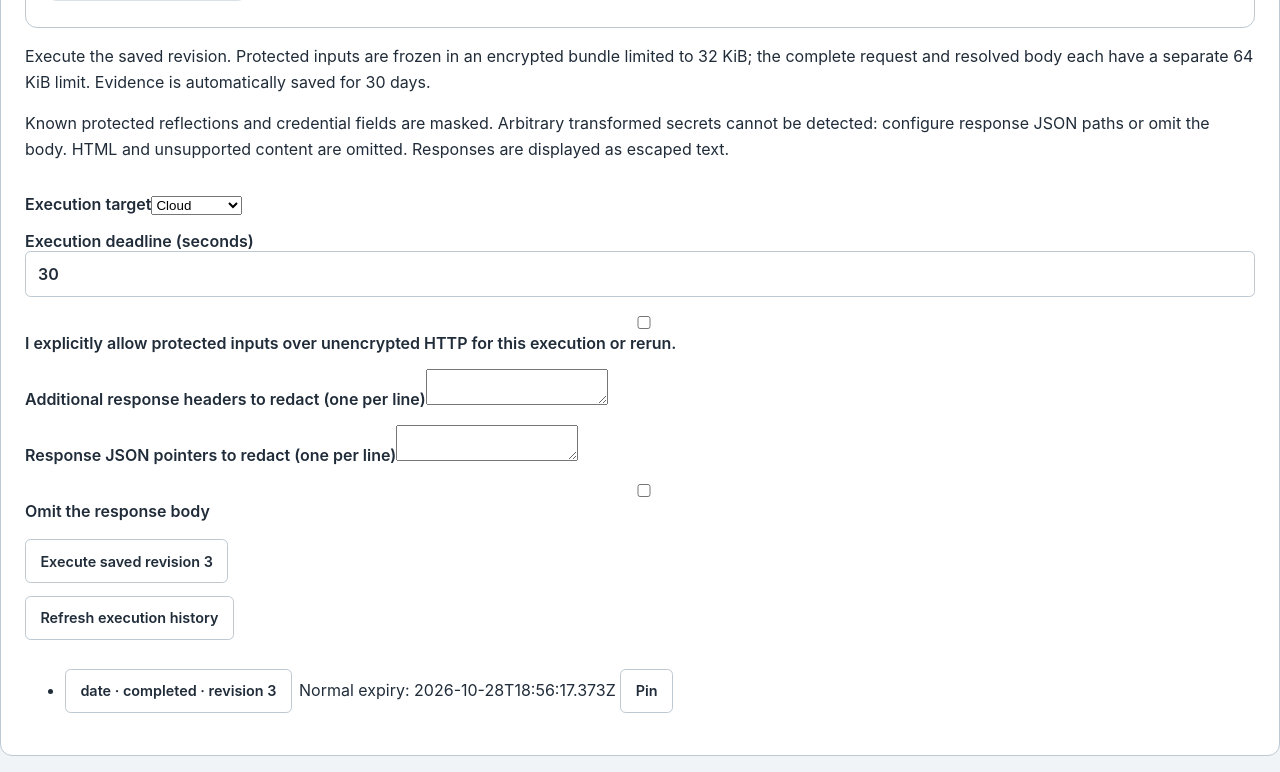
it: directs run-owned steps to a whole-workflow rerun
(page scrolled)
Click the button "date · completed · revision 3". click: coordinates (178, 691)
box: [65, 669, 292, 713]
(page scrolled)
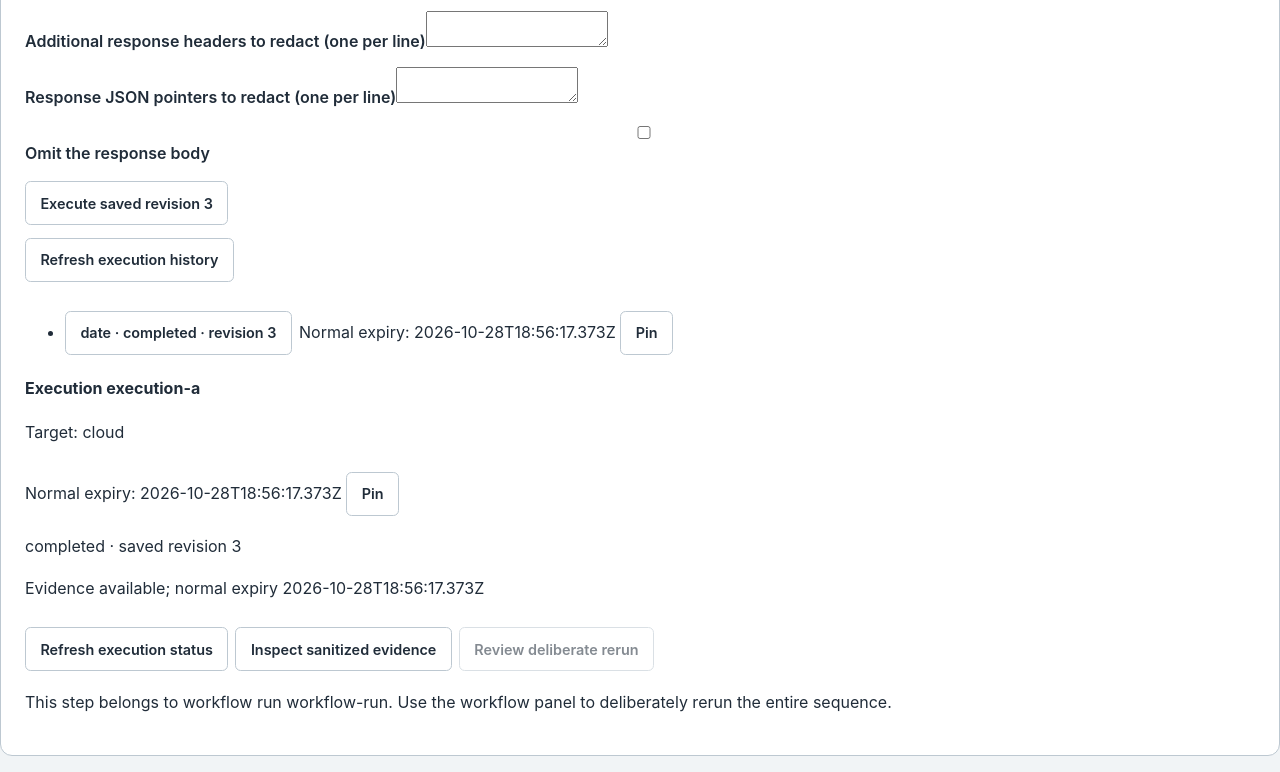
Expected: the text "Use the workflow panel to deliberately rerun" is shown, [388, 692, 892, 712]
Expected: the button "Review deliberate rerun" is disabled, [459, 628, 654, 672]
